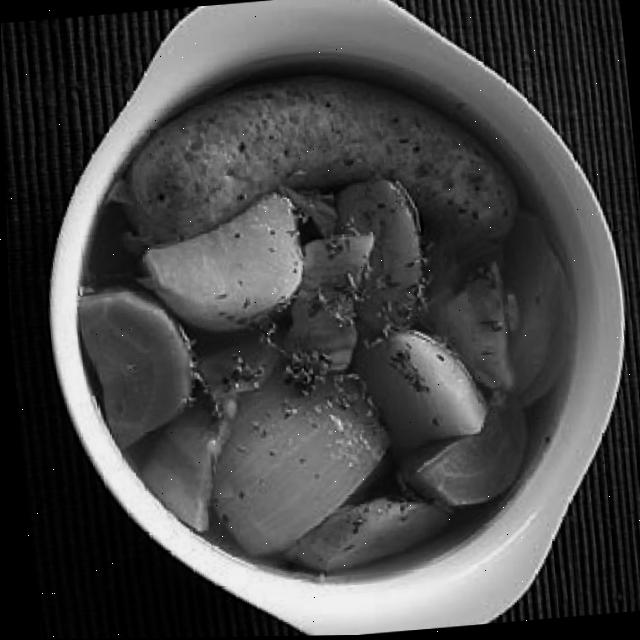汤锅炖物: (25, 1, 634, 629)
